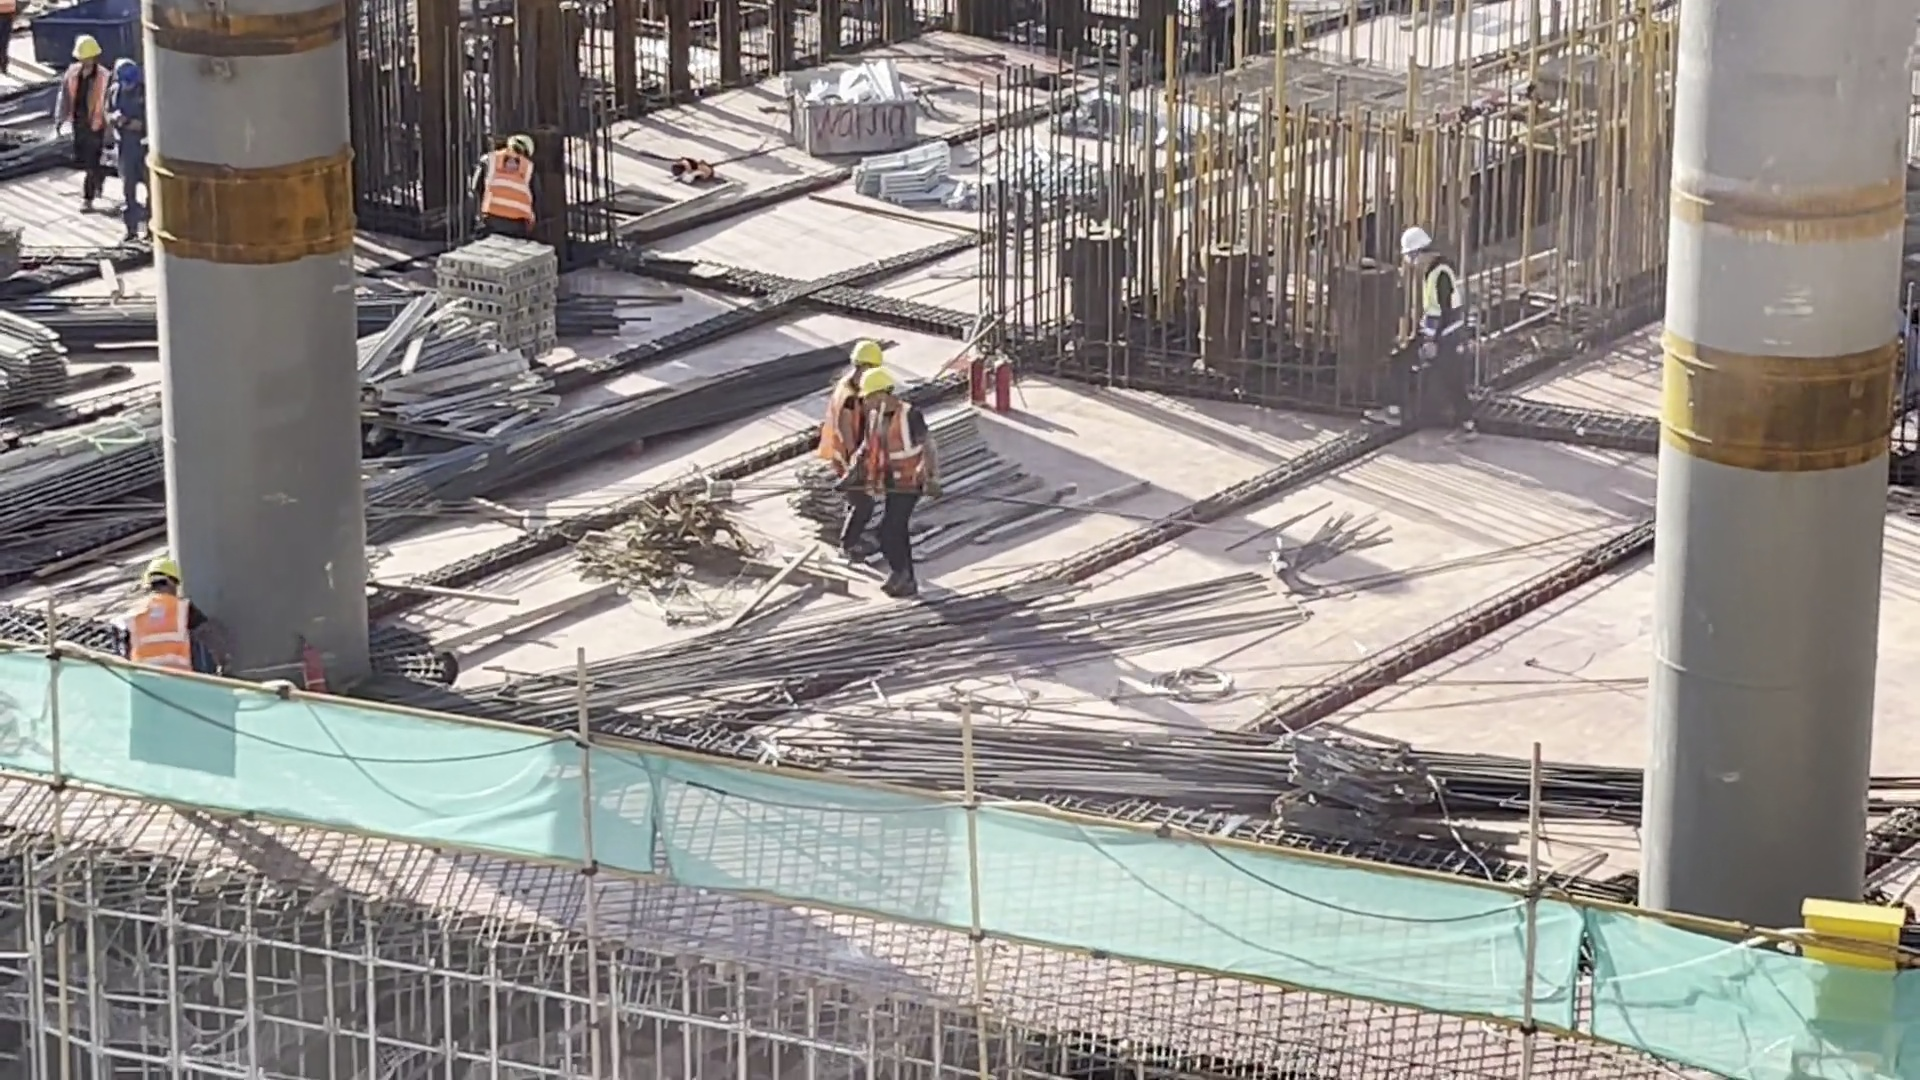helmet: (1397, 226, 1438, 259), (856, 359, 894, 392), (144, 549, 179, 579), (848, 335, 876, 367), (504, 135, 537, 160)
person: (1381, 206, 1493, 460), (854, 364, 937, 604), (460, 119, 563, 258), (114, 549, 210, 694), (95, 67, 160, 238), (825, 328, 877, 505), (66, 23, 111, 154)
vest: (871, 400, 933, 500), (468, 148, 538, 229), (124, 585, 189, 670), (824, 382, 876, 474), (1415, 267, 1464, 359), (70, 61, 116, 131)
